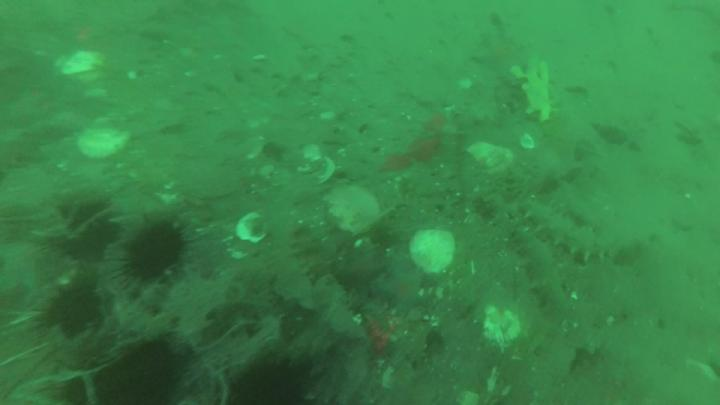echinus: (77, 346, 176, 405), (221, 360, 307, 405), (57, 204, 123, 260), (127, 222, 186, 279), (41, 294, 102, 337)
holothurian: (523, 196, 613, 259), (511, 231, 572, 321)
scallop: (324, 186, 382, 235), (77, 121, 129, 161), (412, 227, 457, 273), (482, 305, 522, 351)
starfish: (382, 271, 427, 312)
